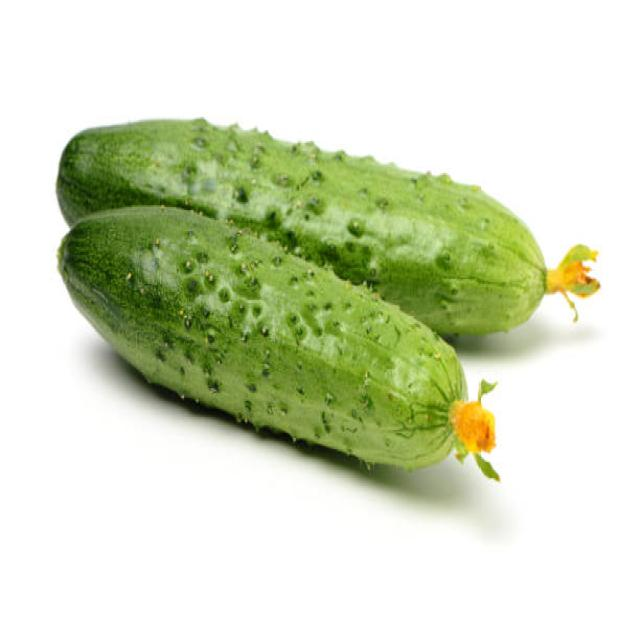cucumber: (56, 202, 468, 474), (54, 115, 545, 337)
